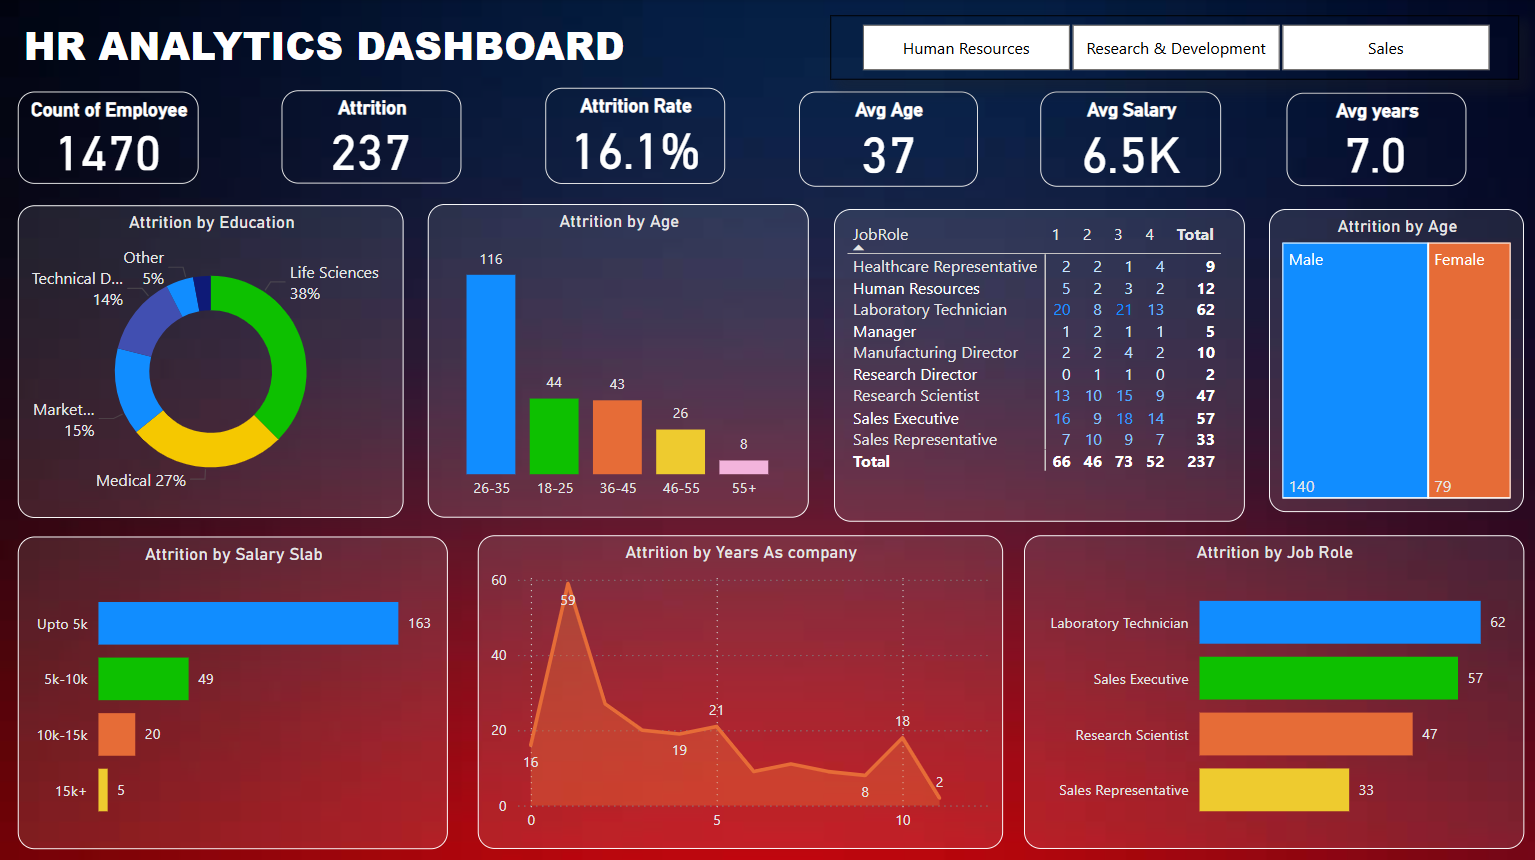

Layout of this report page (visuals, bound fields, positions):
{"tool":"powerbi","page":{"name":"Page 1","canvas":[1280,720],"ordinal":0},"visuals":[{"type":"card","title":"Count of Employee","fields":{"Values":["CountNonNull(HR_Analytics.EmpID)"]},"box":[15.6,76.9,150.7,74.8],"z":0},{"type":"card","title":"Avg Age","fields":{"Values":["Avg(HR_Analytics.Age)"]},"box":[523.4,78.2,149.3,75.4],"z":1000},{"type":"card","title":"Attrition Rate","fields":{"Values":["HR_Analytics.AttritionRate"]},"box":[356.5,76.9,149.7,75.9],"z":2000},{"type":"card","title":"Attrition","fields":{"Values":["Sum(HR_Analytics.AttritionCount)"]},"box":[187.1,76.9,149.7,74.8],"z":3000},{"type":"card","title":"Avg years","fields":{"Values":["Avg(HR_Analytics.YearsAtCompany)"]},"box":[866.7,75.9,149.7,74.8],"z":4000},{"type":"card","title":"Avg Salary","fields":{"Values":["Avg(HR_Analytics.MonthlyIncome)"]},"box":[694.2,75.9,150.7,75.9],"z":5000},{"type":"donutChart","title":" Attrition by Education","fields":{"Category":["HR_Analytics.EducationField"],"Y":["Sum(HR_Analytics.AttritionCount)"]},"box":[15.9,171.7,357.8,259.7],"z":6000},{"type":"columnChart","title":" Attrition by Age","fields":{"Category":["HR_Analytics.AgeGroup"],"Y":["Sum(HR_Analytics.AttritionCount)"]},"box":[398.2,170.7,436.6,260.3],"z":7000},{"type":"pivotTable","fields":{"Rows":["HR_Analytics.JobRole"],"Columns":["HR_Analytics.JobSatisfaction"],"Values":["Sum(HR_Analytics.AttritionCount)"]},"box":[856.2,172.1,406.8,260.3],"z":8000},{"type":"barChart","title":" Attrition by Salary Slab","fields":{"Category":["HR_Analytics.SalarySlab"],"Y":["Sum(HR_Analytics.AttritionCount)"]},"box":[15.9,447.3,357.8,259.7],"z":9000},{"type":"barChart","title":" Attrition by Job Role","fields":{"Y":["Sum(HR_Analytics.AttritionCount)"],"Category":["HR_Analytics.JobRole"]},"box":[852.2,445.8,415.7,260.9],"z":10000},{"type":"areaChart","title":" Attrition by Years As company","fields":{"Category":["HR_Analytics.YearsAtCompany"],"Y":["Sum(HR_Analytics.AttritionCount)"]},"box":[398,445.8,436.5,260.9],"z":11000},{"type":"treemap","title":" Attrition by Age","fields":{"Group":["HR_Analytics.Gender"],"Values":["Sum(HR_Analytics.AttritionCount)"]},"box":[1048.2,29.9,214.8,123.7],"z":12000},{"type":"slicer","fields":{"Values":["HR_Analytics.Department"]},"box":[598.8,10,433.8,54],"z":12001},{"type":"textbox","box":[15.6,10,526.2,59.7],"z":12002}]}

Visuals, with their boxes in screenshot pixels (x1, y1, x2, y2), scaled from the page's 1280x720 canvas onto the 1535x860 screenshot:
"Count of Employee" card: [x1=19, y1=92, x2=199, y2=181]
"Avg Age" card: [x1=628, y1=93, x2=807, y2=183]
"Attrition Rate" card: [x1=428, y1=92, x2=607, y2=183]
"Attrition" card: [x1=224, y1=92, x2=404, y2=181]
"Avg years" card: [x1=1039, y1=91, x2=1219, y2=180]
"Avg Salary" card: [x1=832, y1=91, x2=1013, y2=181]
" Attrition by Education" donutChart: [x1=19, y1=205, x2=448, y2=515]
" Attrition by Age" columnChart: [x1=478, y1=204, x2=1001, y2=515]
pivotTable - HR_Analytics.JobRole x HR_Analytics.JobSatisfaction: [x1=1027, y1=206, x2=1515, y2=516]
" Attrition by Salary Slab" barChart: [x1=19, y1=534, x2=448, y2=844]
" Attrition by Job Role" barChart: [x1=1022, y1=532, x2=1520, y2=844]
" Attrition by Years As company" areaChart: [x1=477, y1=532, x2=1001, y2=844]
" Attrition by Age" treemap: [x1=1257, y1=36, x2=1515, y2=183]
slicer - HR_Analytics.Department: [x1=718, y1=12, x2=1238, y2=76]
textbox: [x1=19, y1=12, x2=650, y2=83]
